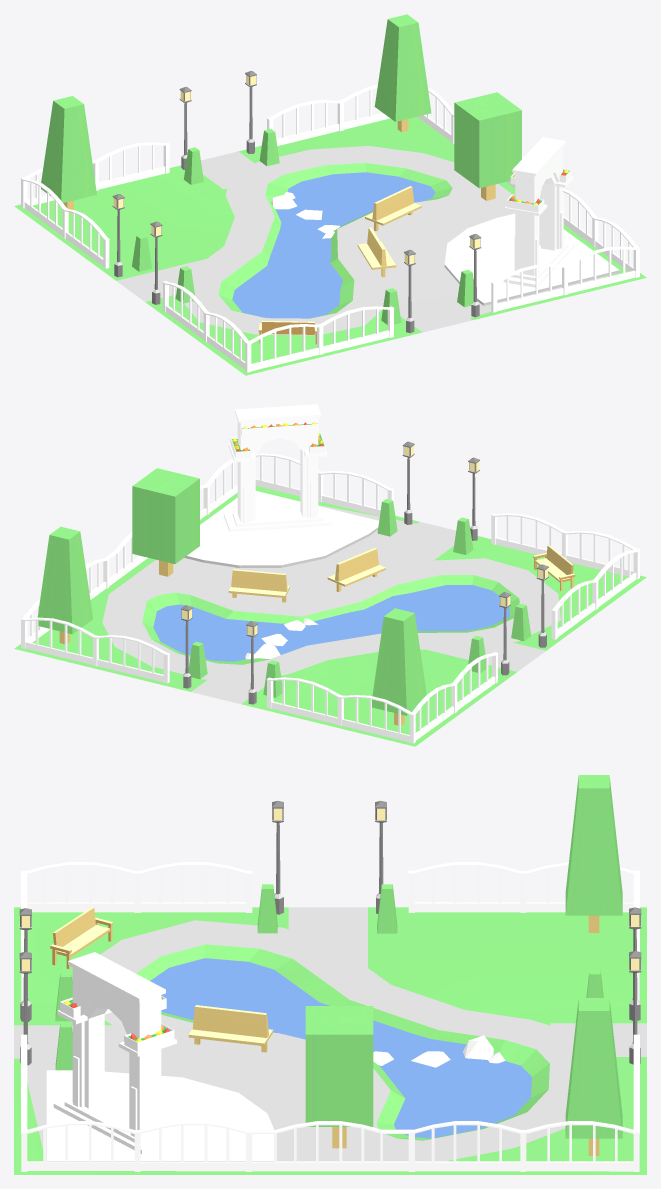
3 views of the same model, one above another, from view 1: azimuth 30°, elevation 25°; view 2: azimuth 150°, elevation 25°; view 3: azimuth 270°, elevation 25° (orthographic). The views are drawn at different scales.
Visible parts, largest first — view 1: park.003; view 2: park.003; view 3: park.003.
Part boxes in pixels (x1=…): park.003: x1=14, y1=14, x2=646, y2=375; park.003: x1=14, y1=404, x2=646, y2=746; park.003: x1=14, y1=775, x2=646, y2=1174.
Bounding box in the file's own units: 16 × 5.15 × 16.
Materials: 1 (1 with a texture image).
